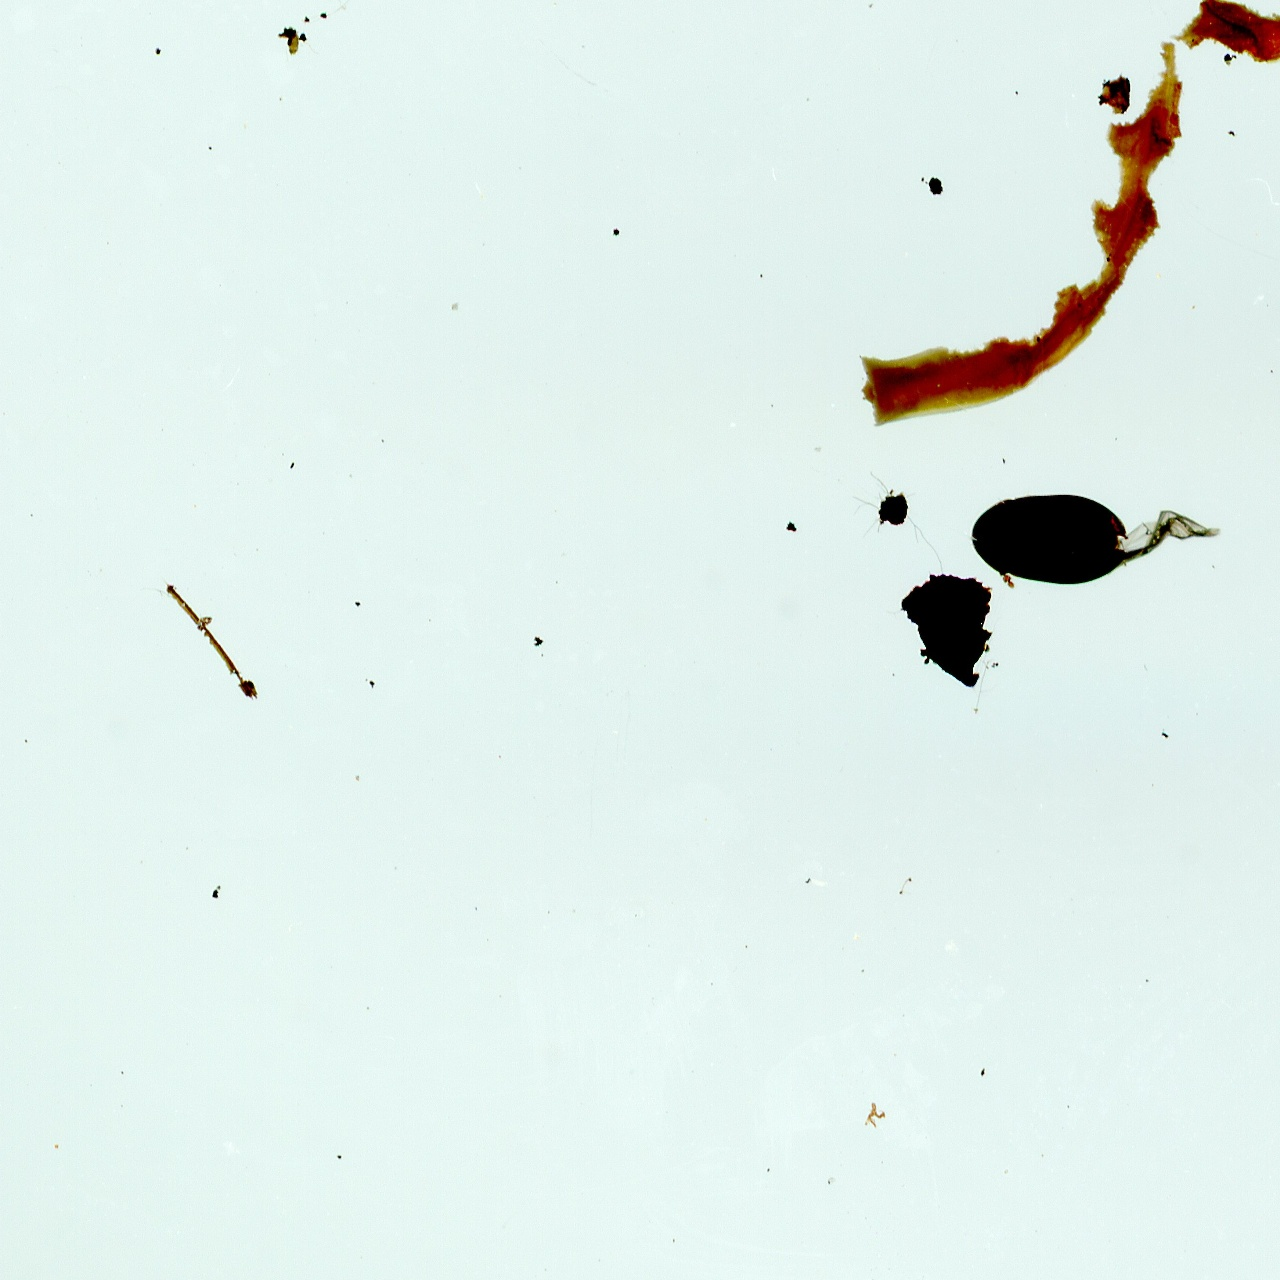arthropod: (969, 490, 1225, 592)
